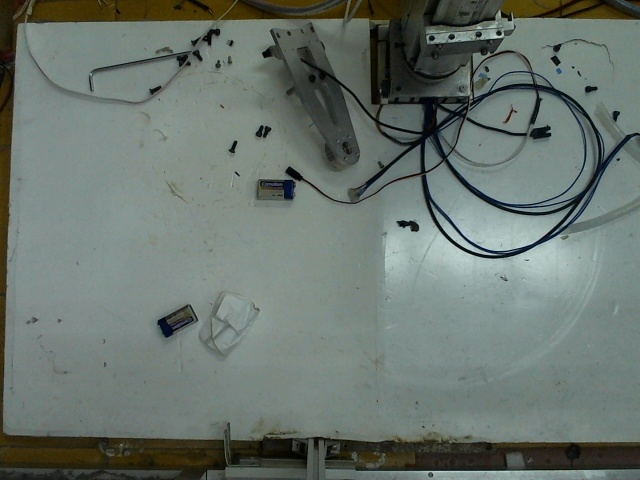battery: (155, 301, 197, 335), (253, 174, 294, 200)
